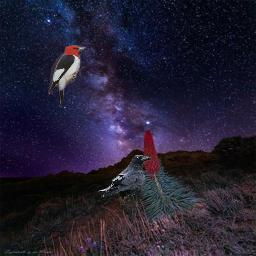Crow: (98, 155, 151, 206)
Woodpecker: (48, 45, 86, 107)
